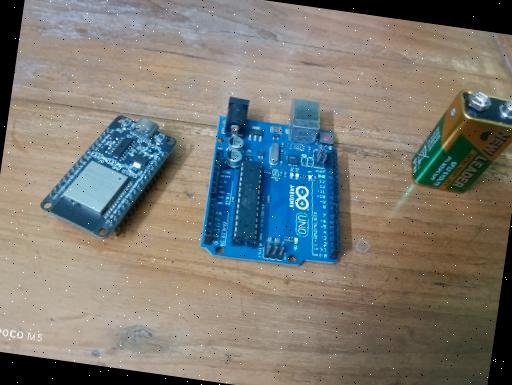Arduino: (198, 87, 361, 274)
Battery: (407, 82, 512, 201)
Esp32: (36, 104, 180, 247)
